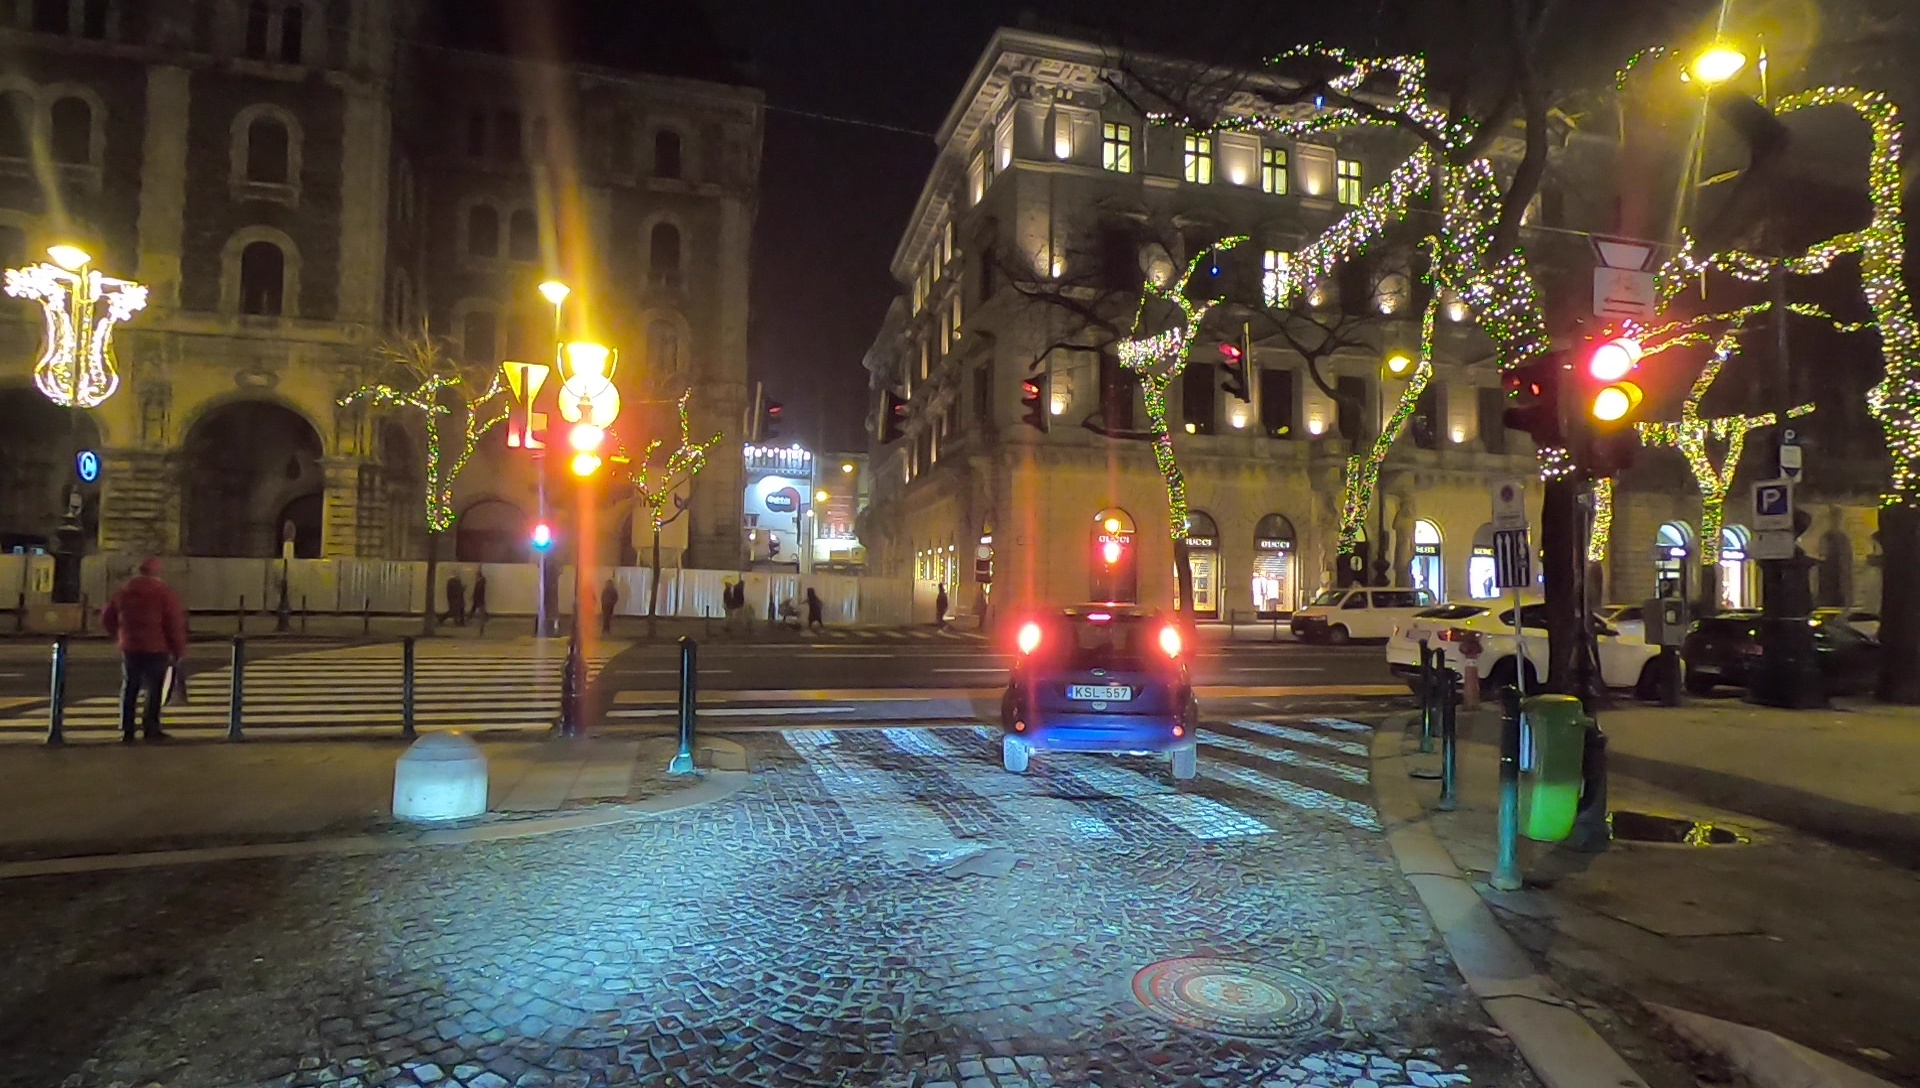person: (100, 556, 188, 743), (436, 569, 466, 630), (802, 583, 825, 636), (470, 568, 489, 631), (600, 578, 619, 636), (728, 577, 746, 631), (934, 581, 950, 629)
